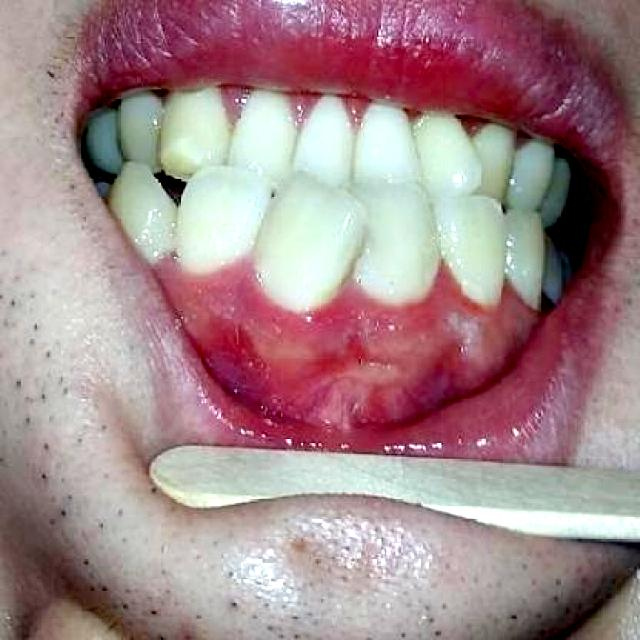Plaque: (172, 259, 521, 354)
